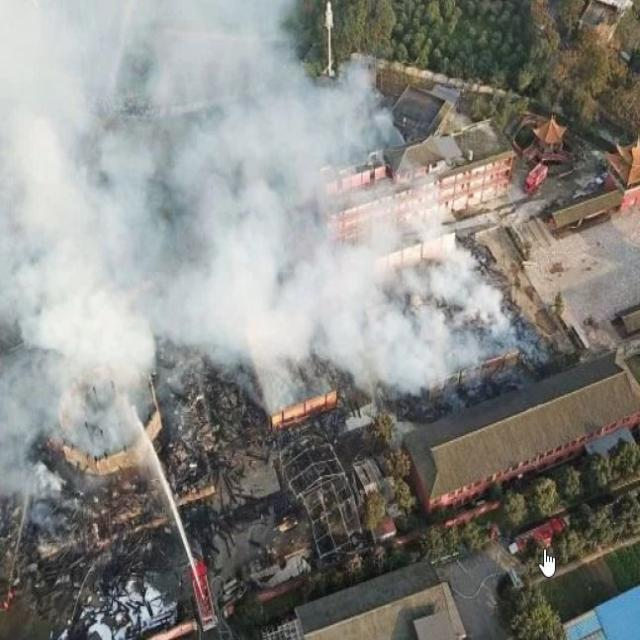Smoke: (0, 0, 519, 403)
